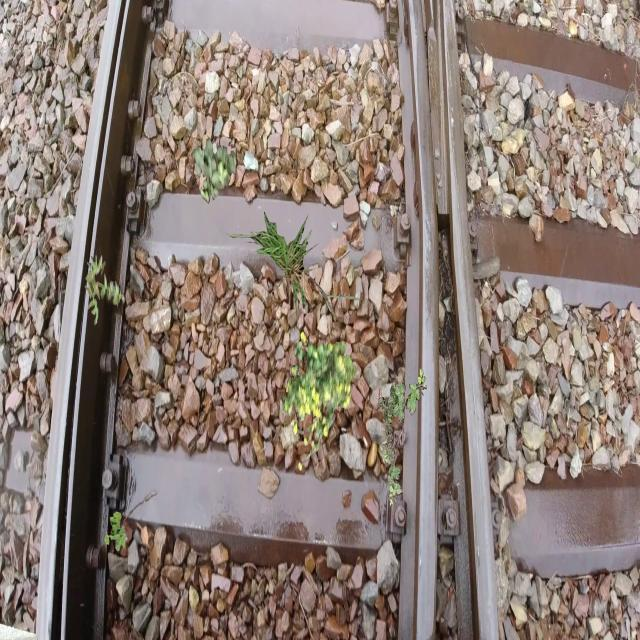Plant: (216, 211, 359, 330), (282, 331, 357, 471), (378, 369, 426, 507), (84, 254, 126, 326), (193, 137, 237, 203), (104, 511, 128, 552)
